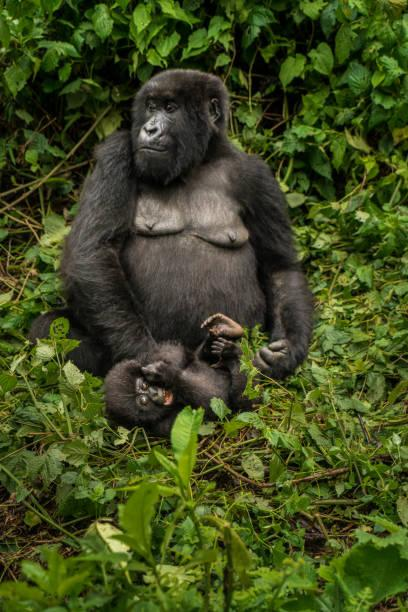goriile_montagne: (72, 57, 316, 389)
